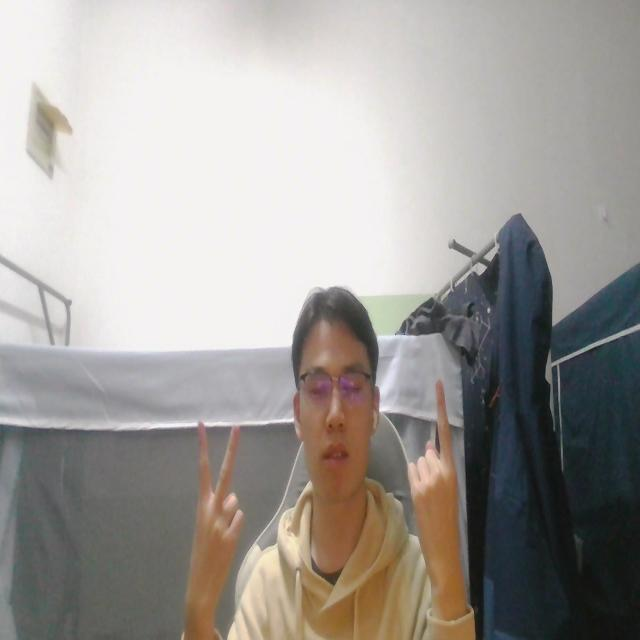one: (408, 380, 466, 620)
yes: (185, 422, 244, 640)
